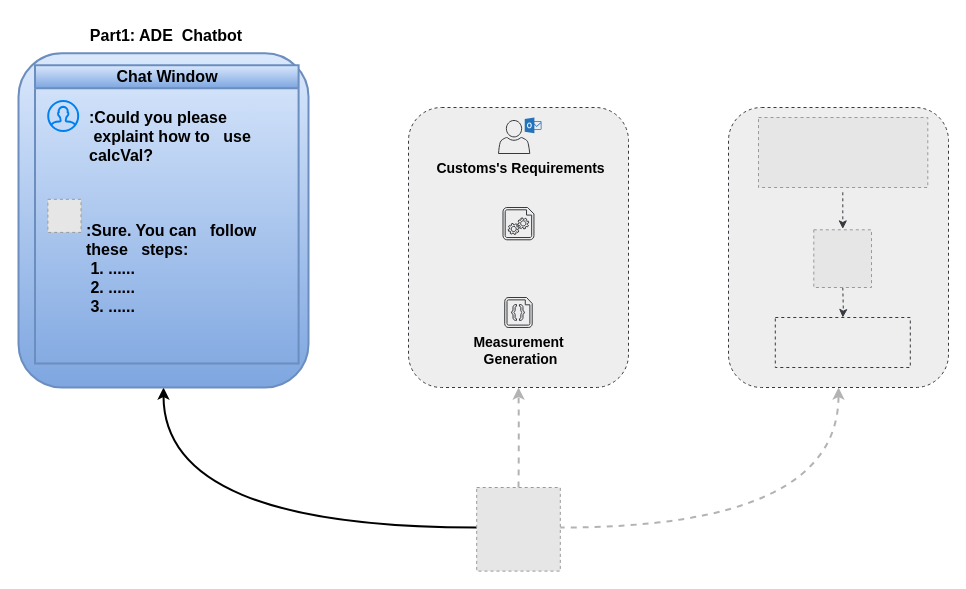
The diagram is 966 pixels wide and 589 high, and some of its shapes have lost their labels. Grey dashed boxes stand in for pictures. Here are the shapes that lost their labels. From the top down, the centre of each, then its label:
pixel 518 223: Requirements Analysis
pixel 842 342: Netlist jobs: 20 simulation jobs: 30
